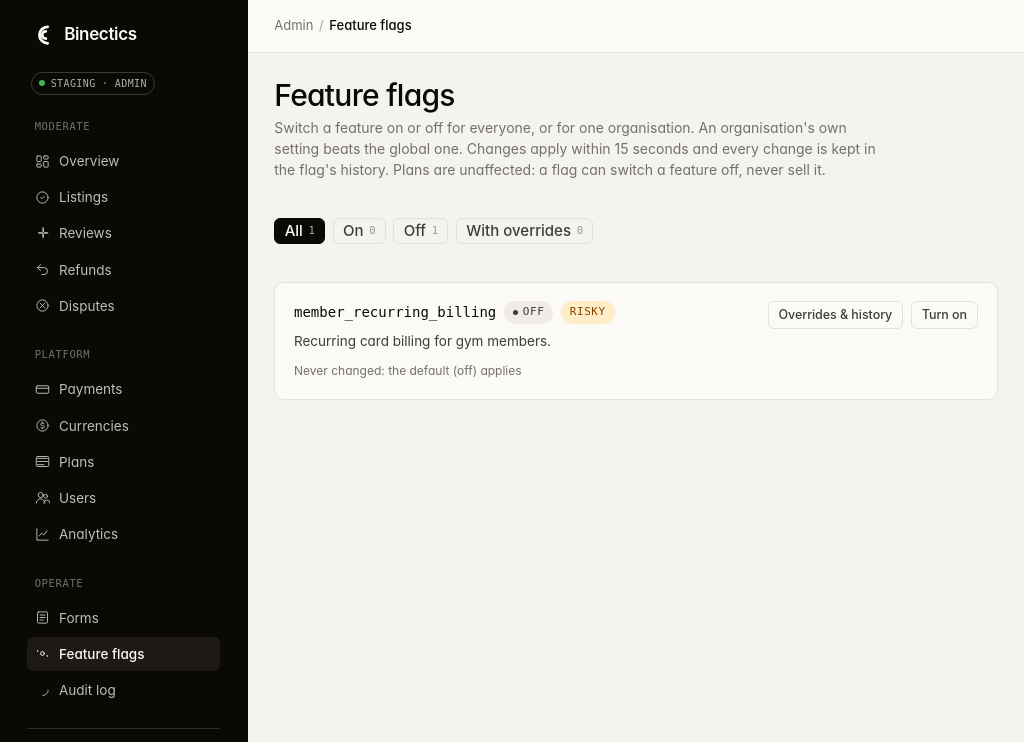
Scenario: admin feature flags list › a risky global toggle is sent only after the key is typed
Click the button with aria-label "Turn member_recurring_billing on everywhere" at (944,315), box left=911, top=301, right=978, bottom=329
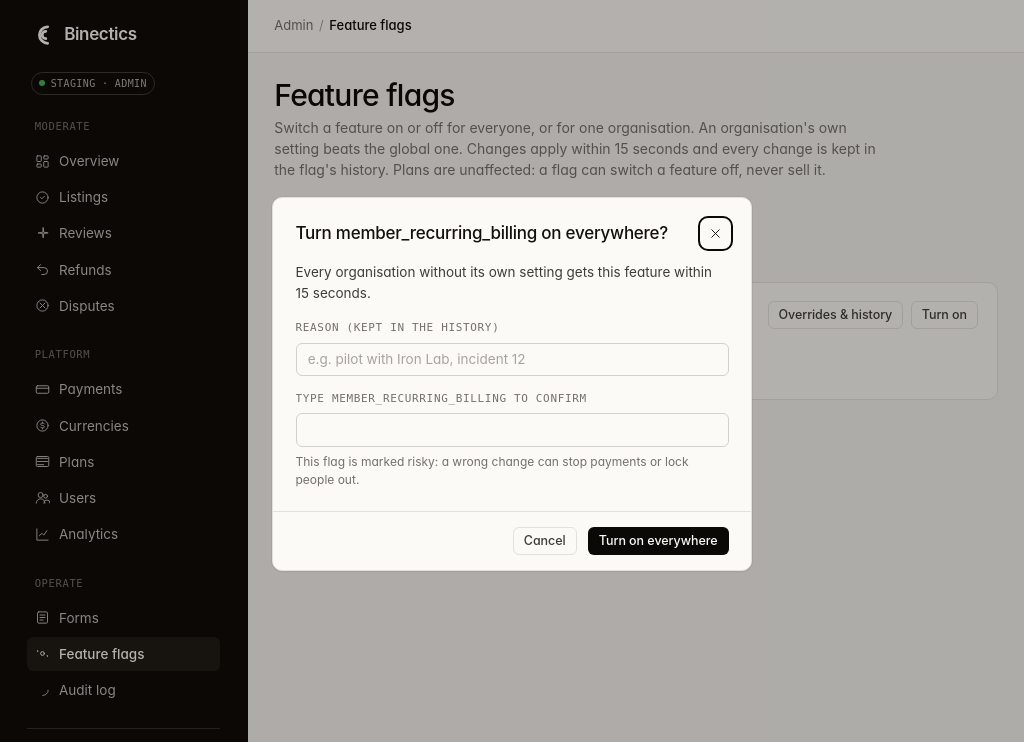
Result: the button "Turn on everywhere" is disabled at left=588, top=527, right=728, bottom=555
Type "pilot done" into the field labelled "Reason (kept in the history)" at (512,359), box left=296, top=342, right=728, bottom=376
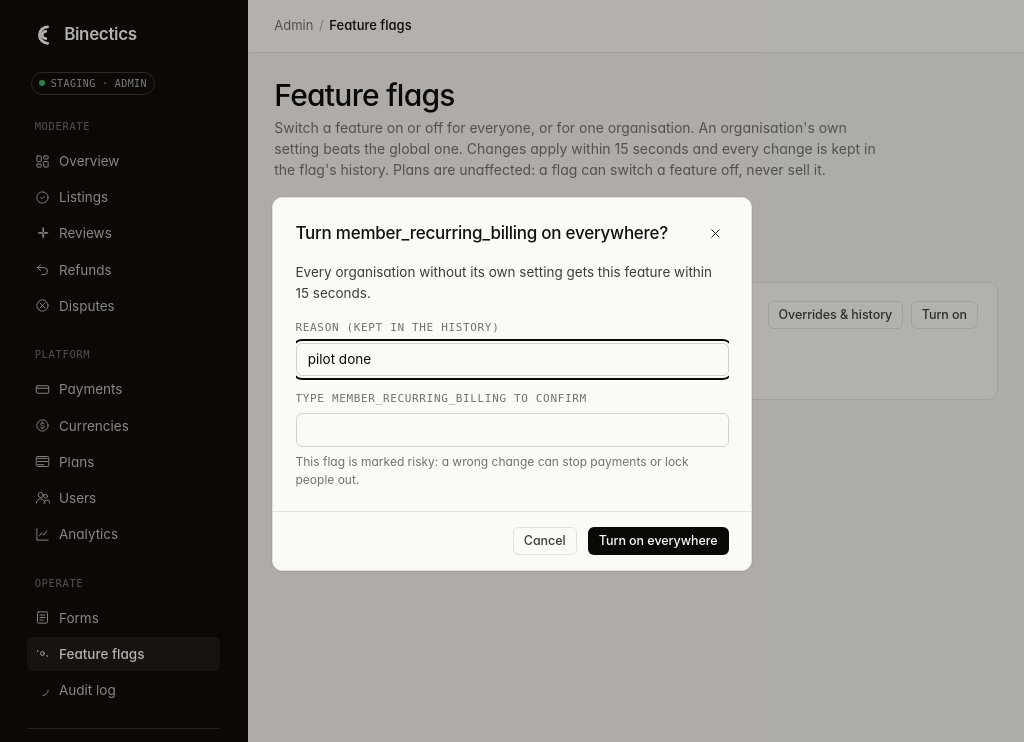
Type "member_recurring" into the field labelled "Type member_recurring_billing to confirm" at (512,430), box left=296, top=413, right=728, bottom=447
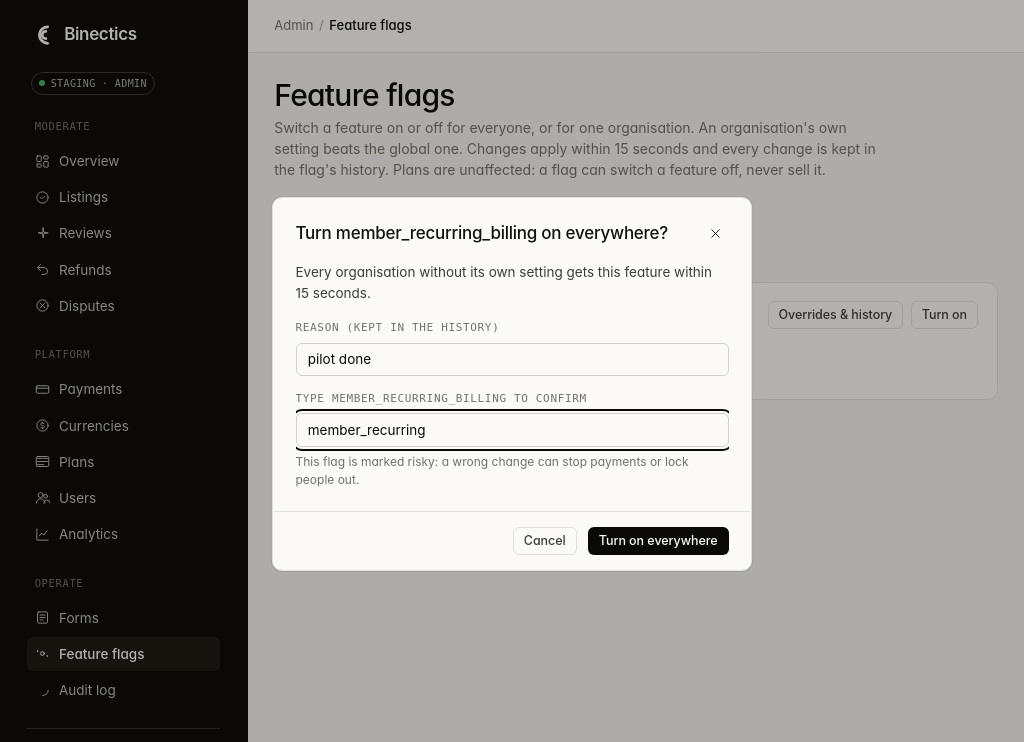
Result: the button "Turn on everywhere" is disabled at left=588, top=527, right=728, bottom=555
Type "_billing" into the field labelled "Type member_recurring_billing to confirm" at (512,430), box left=296, top=413, right=728, bottom=447
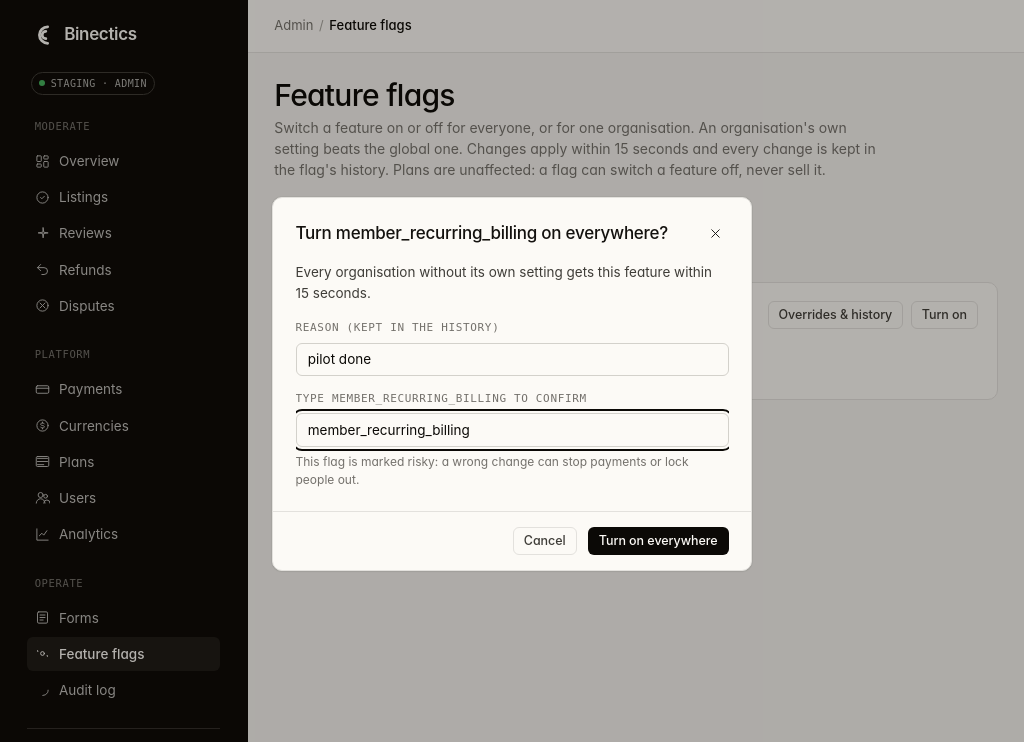
Click the button "Turn on everywhere" at (658,541), box left=588, top=527, right=728, bottom=555
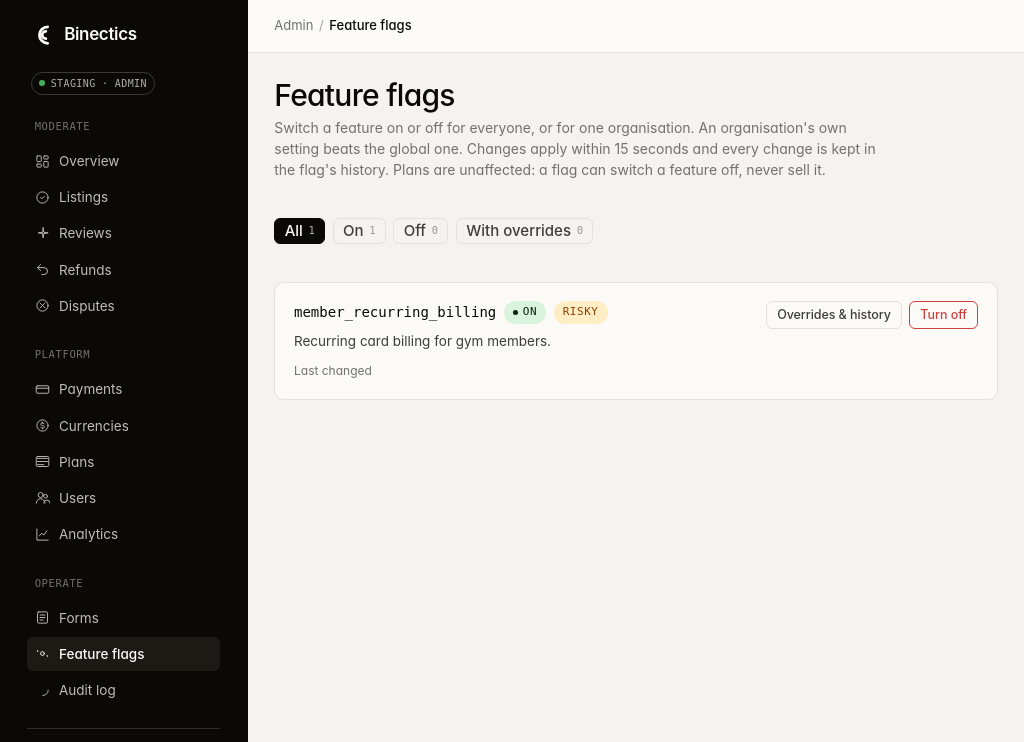
Result: the dialog is gone
